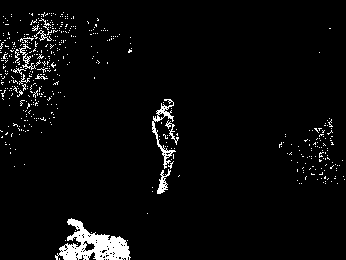person: (149, 97, 180, 195)
